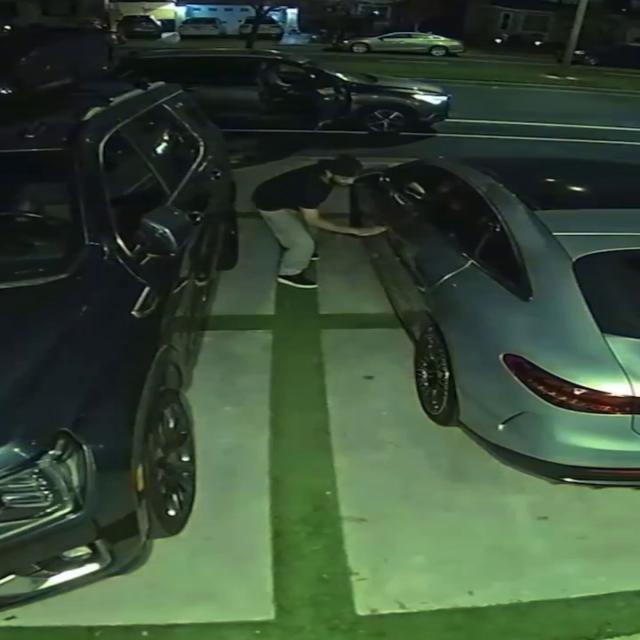Theft - Alert: (352, 158, 639, 485), (118, 50, 450, 138), (252, 156, 381, 288)
